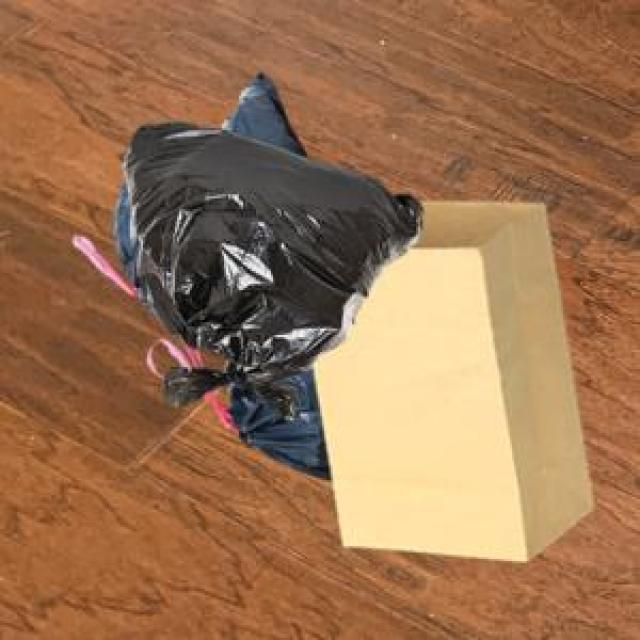miscellaneous trash: (120, 117, 418, 418), (70, 189, 329, 476)
paper: (309, 198, 589, 557)
